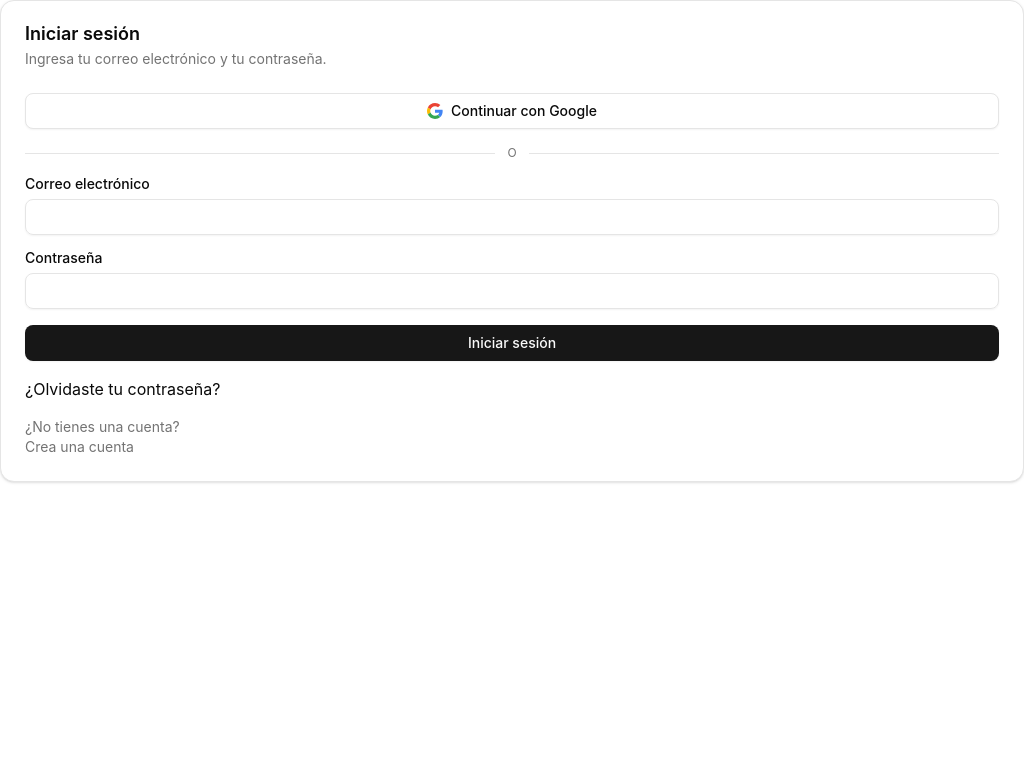
Test: SignInContainer › shows invalid credentials above the form and stays on the screen
In the field labelled "Correo electrónico": (512, 217) [25,199,999,235], type "ana@example.com"
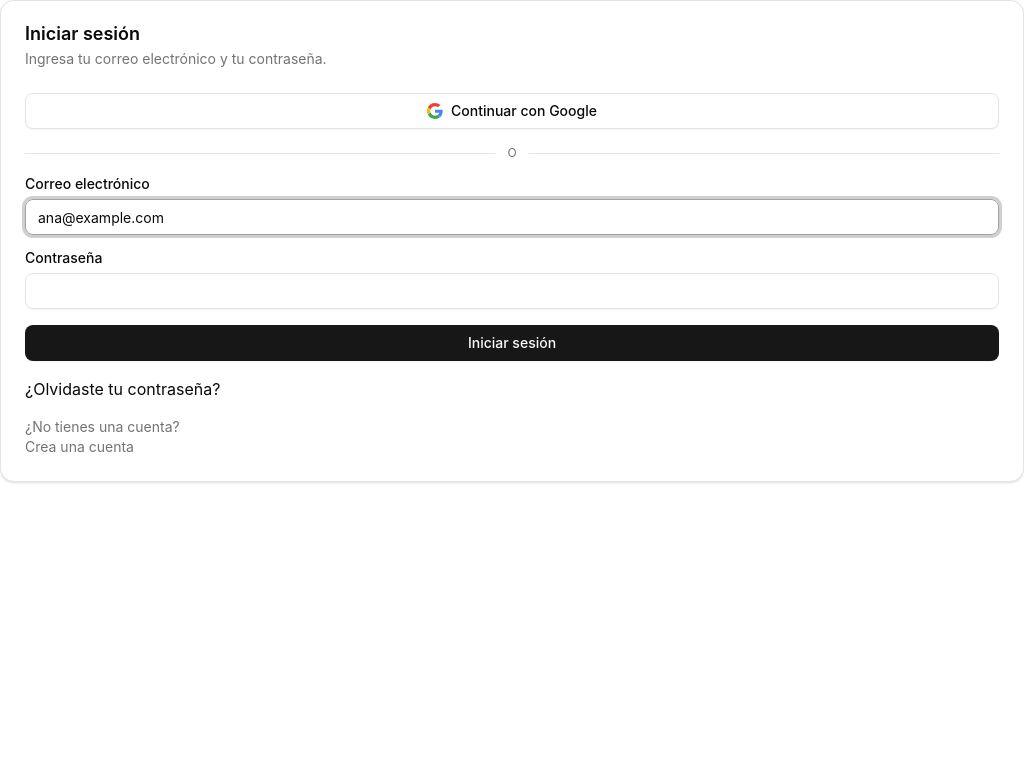
In the password field labelled "Contraseña": (512, 291) [25,273,999,309], type "wrong password"
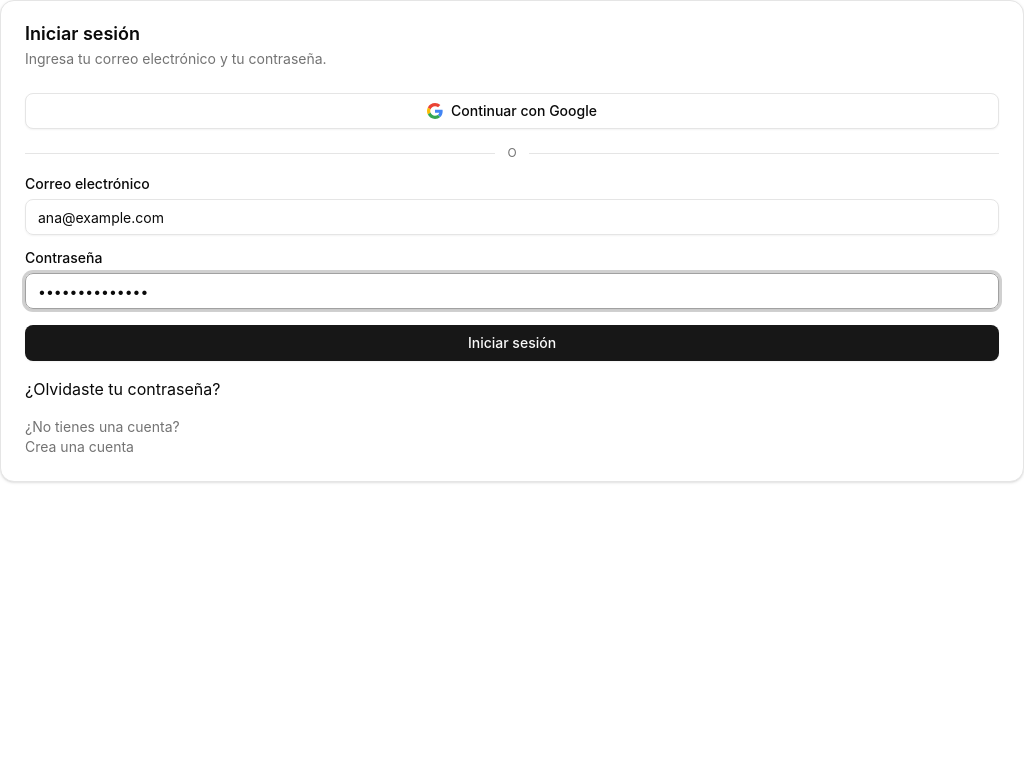
Click the button "Iniciar sesión": (512, 343) [25,325,999,361]
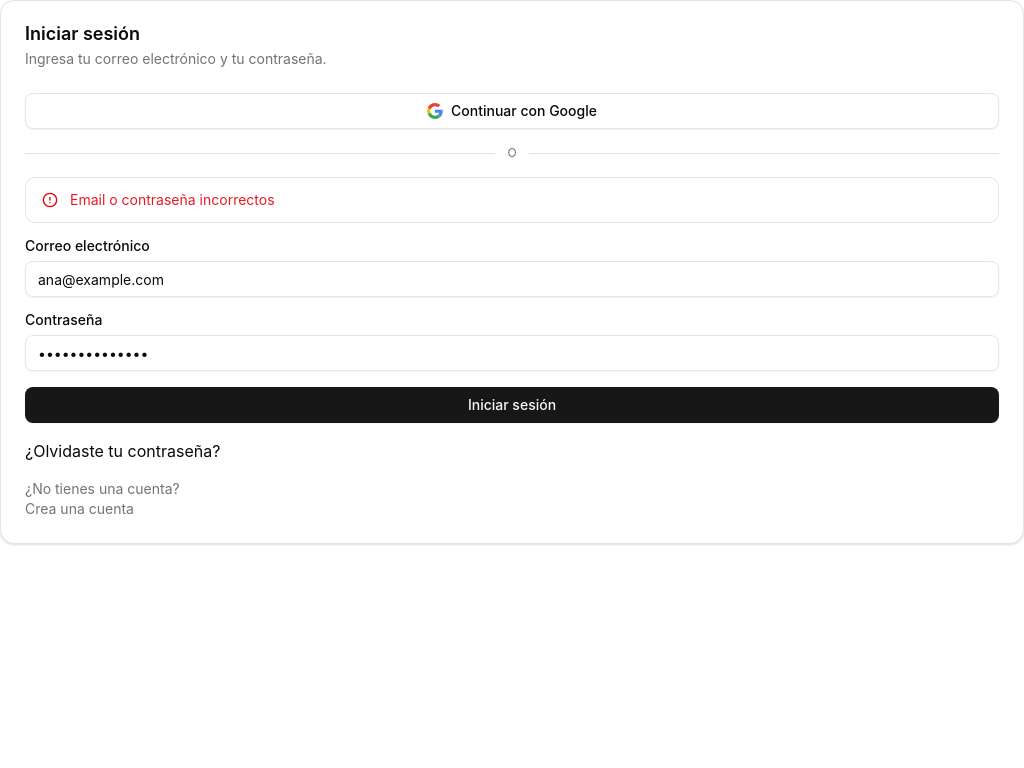
Check: the button "Iniciar sesión" is enabled, box [25,387,999,423]
Check: the text "Email o contraseña incorrectos" is shown, box [70,191,275,208]
